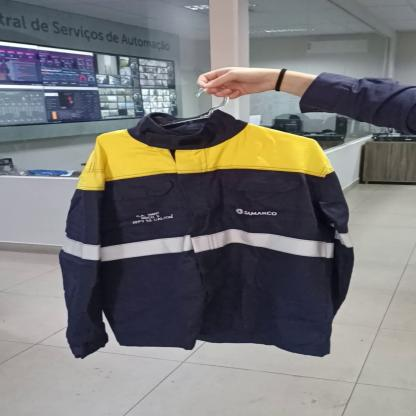C_eletrica: (60, 117, 352, 361)
